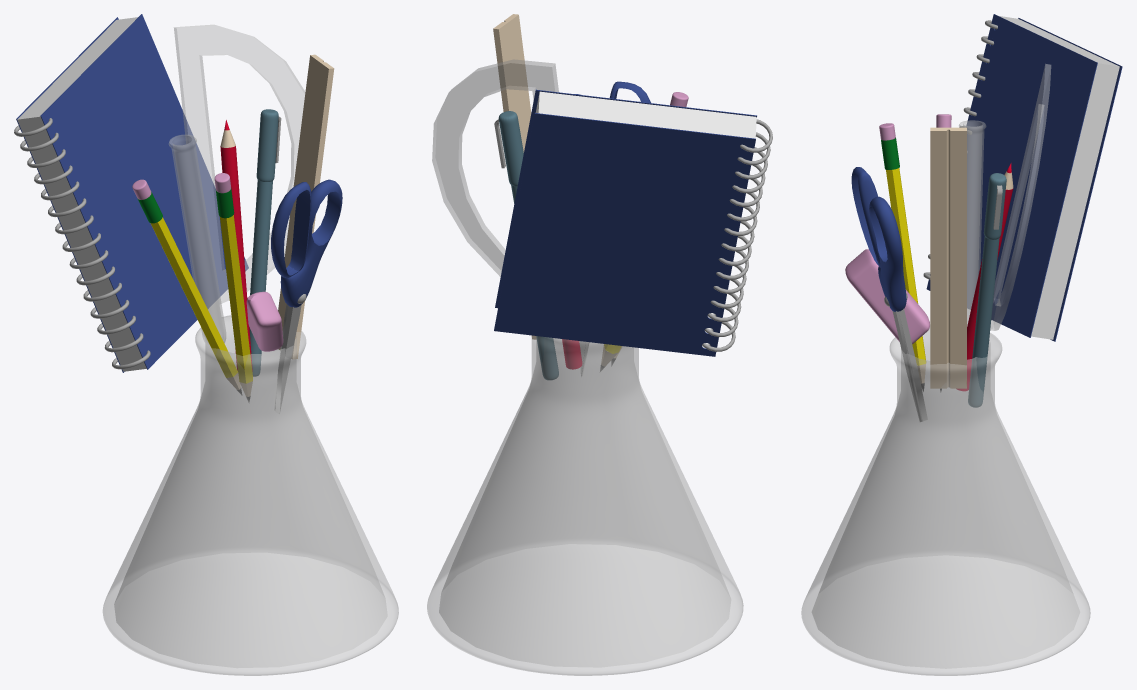
File: SchoolBouquetFixed.fbx
The picture shows the model from 3 angles, left to right: view 1: azimuth 30°, elevation 25°; view 2: azimuth 150°, elevation 25°; view 3: azimuth 270°, elevation 25°; orthographic projection. The views are drawn at different scales.
Parts seen in each view (by area): view 1: GiantFlask, Notebook, Protractor, polySurface31, TestTube, Ruler, polySurface40, Scissors, polySurface39, Pencil, Pencil2, Eraser (+2 smaller); view 2: GiantFlask, Notebook, Protractor, polySurface31, Ruler, polySurface40; view 3: GiantFlask, Notebook, Ruler, polySurface31, Protractor, polySurface40, TestTube, Scissors, Eraser, Pencil2, polySurface39, Metal (+2 smaller).
Part boxes in pixels (left/top/right/bottom): GiantFlask: left=102, top=315, right=398, bottom=675; Notebook: left=16, top=14, right=248, bottom=372; Protractor: left=174, top=24, right=305, bottom=303; polySurface31: left=17, top=17, right=146, bottom=371; TestTube: left=169, top=134, right=226, bottom=347; Ruler: left=278, top=54, right=334, bottom=359; polySurface40: left=249, top=109, right=278, bottom=376; Scissors: left=280, top=179, right=342, bottom=307; polySurface39: left=271, top=182, right=311, bottom=277; Pencil: left=150, top=217, right=237, bottom=377; Pencil2: left=219, top=215, right=252, bottom=383; Eraser: left=246, top=291, right=283, bottom=351; GiantFlask: left=427, top=335, right=743, bottom=675; Notebook: left=494, top=89, right=756, bottom=356; Protractor: left=432, top=59, right=558, bottom=276; polySurface31: left=535, top=91, right=756, bottom=348; Ruler: left=493, top=14, right=536, bottom=339; polySurface40: left=498, top=111, right=558, bottom=380; GiantFlask: left=801, top=325, right=1090, bottom=675; Notebook: left=926, top=14, right=1122, bottom=341; Ruler: left=930, top=127, right=966, bottom=388; polySurface31: left=998, top=15, right=1119, bottom=339; Protractor: left=990, top=64, right=1051, bottom=330; polySurface40: left=968, top=173, right=1006, bottom=407; TestTube: left=959, top=120, right=986, bottom=326; Scissors: left=869, top=196, right=906, bottom=311; Eraser: left=845, top=249, right=929, bottom=343; Pencil2: left=886, top=168, right=926, bottom=365; polySurface39: left=851, top=167, right=880, bottom=267; Metal: left=884, top=293, right=927, bottom=421.
Size of the model in its own units: 14.65 by 23.58 by 12.59.
